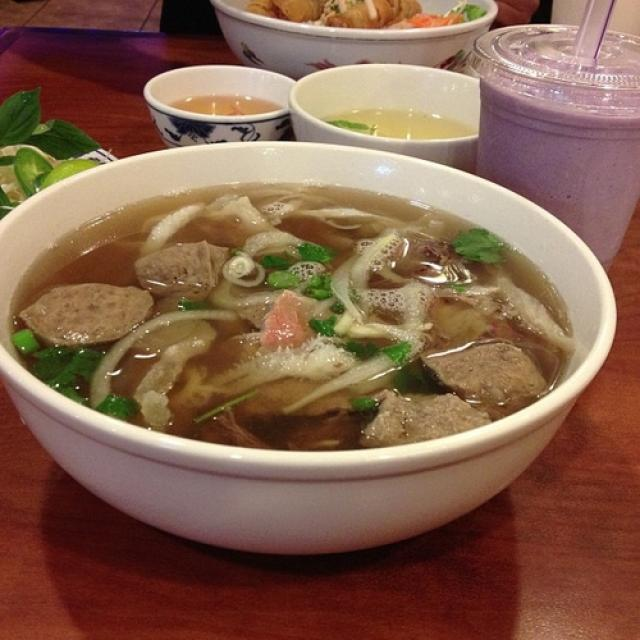面条主食: (5, 114, 609, 546)
